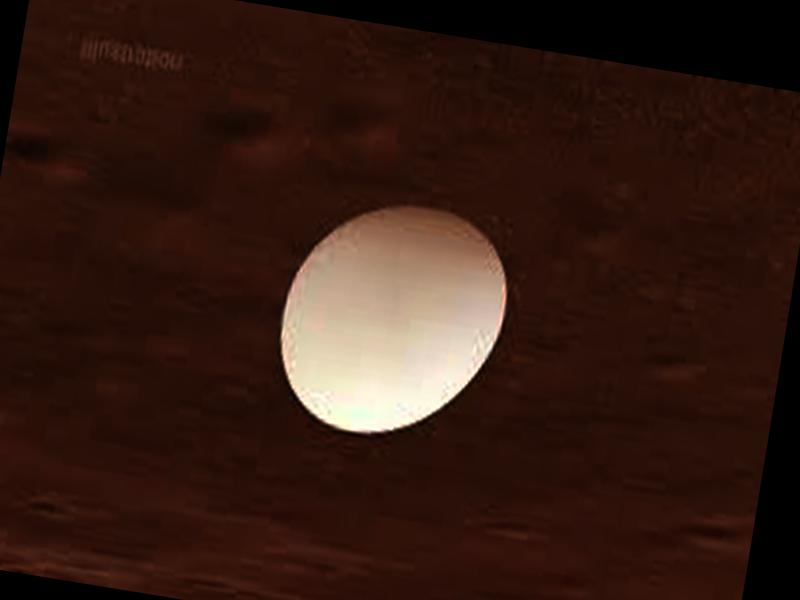Eggs: (265, 188, 521, 452)
